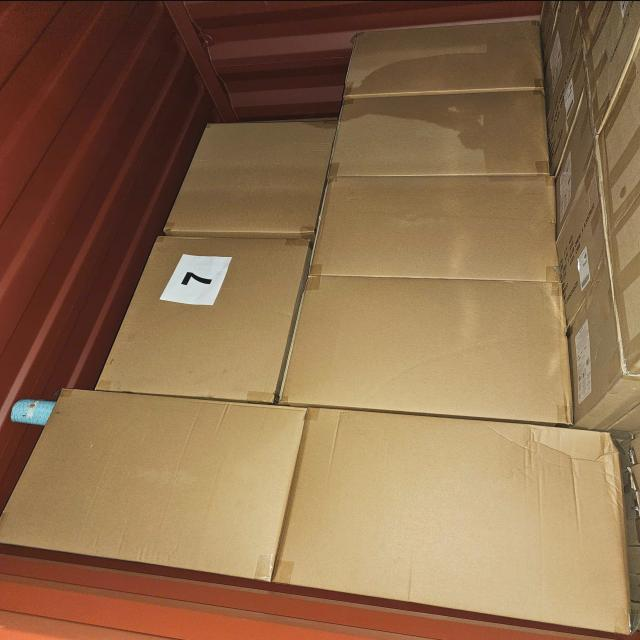Carton: (273, 404, 636, 634), (0, 386, 302, 581), (288, 276, 574, 408), (93, 228, 302, 398), (309, 172, 561, 276), (163, 120, 331, 238), (330, 86, 550, 172), (340, 16, 542, 94)
